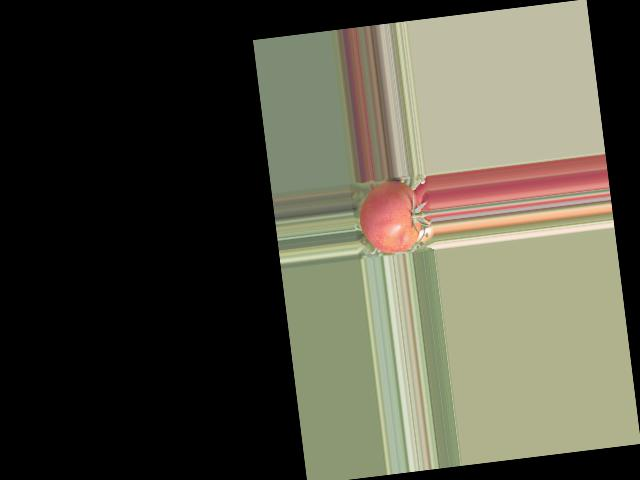tomato: (356, 178, 425, 256)
